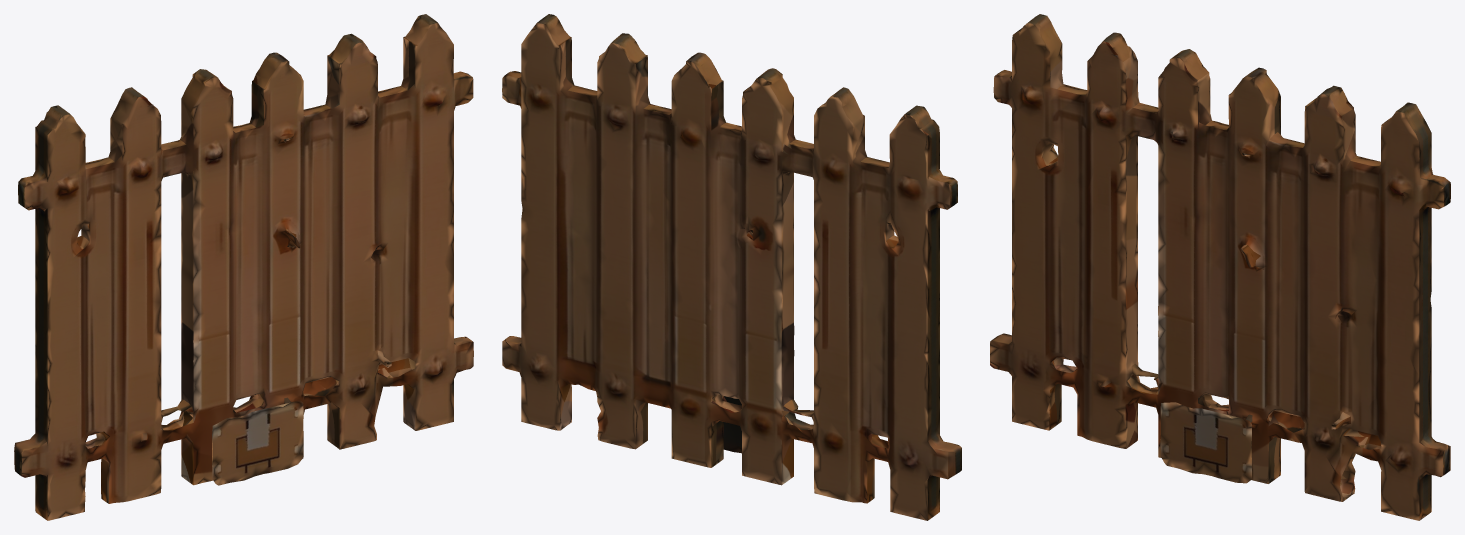
The model's file is fence.fbx.
3 views of the same model, side by side, from view 1: azimuth 30°, elevation 25°; view 2: azimuth 150°, elevation 25°; view 3: azimuth 330°, elevation 25° (orthographic).
Visible parts, largest first — view 1: WoodenFence; view 2: WoodenFence; view 3: WoodenFence.
Boxes of the visible parts, box(x1,y1,x2,y2) form: WoodenFence: box(14, 14, 473, 520); WoodenFence: box(502, 14, 961, 520); WoodenFence: box(990, 14, 1450, 520).
Bounding box in the file's own units: 141 × 120 × 13.51.
1 material, 1 textured.
